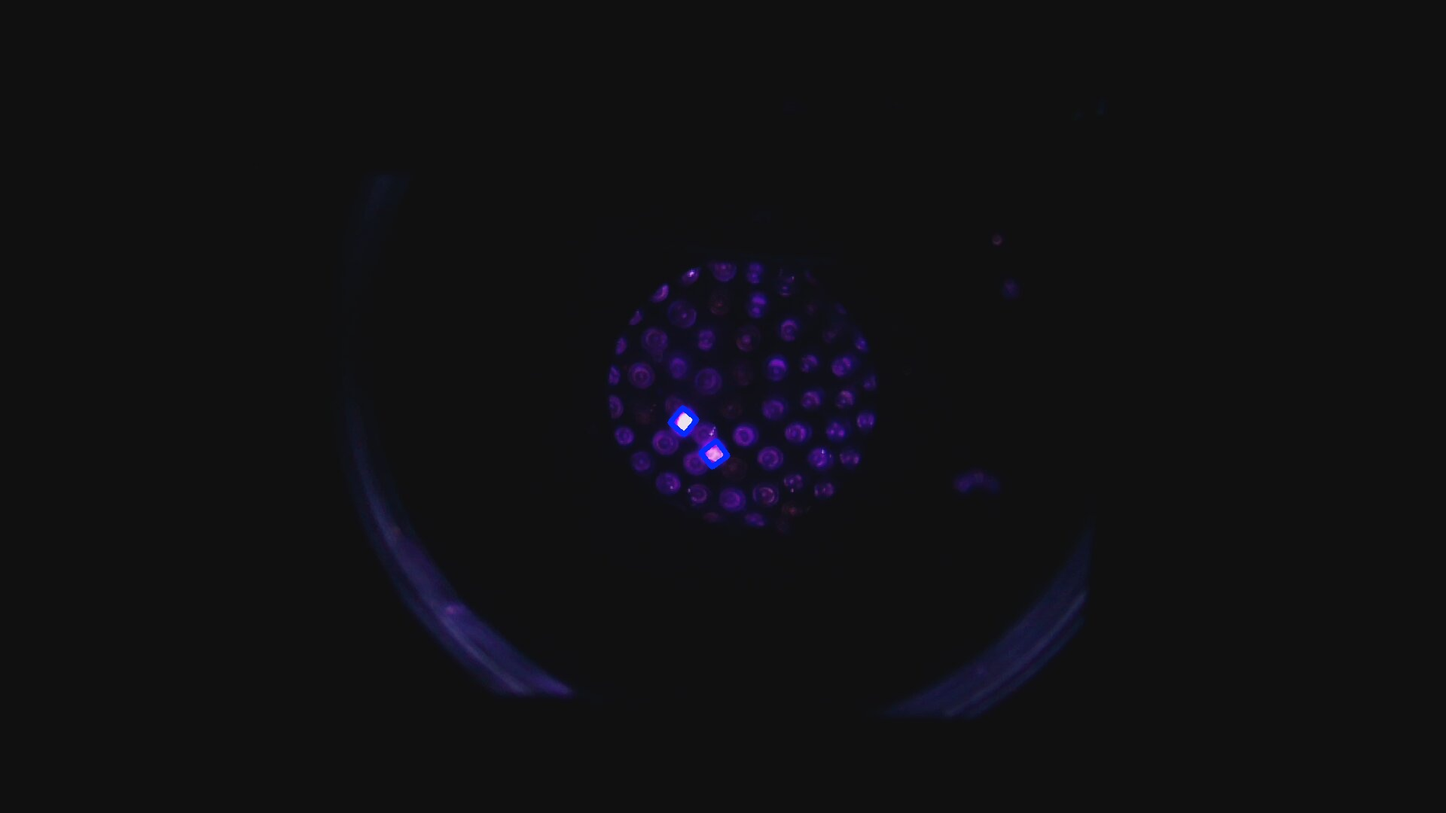plastic: (664, 402, 703, 441), (696, 436, 733, 473)
